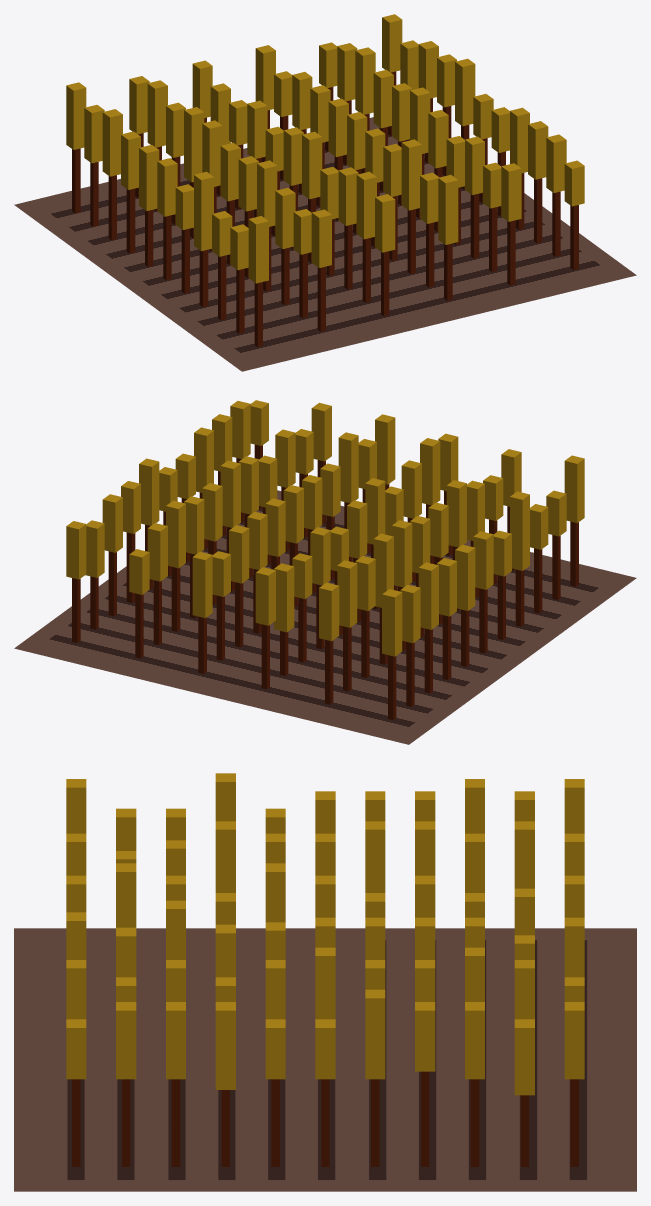
The model's file is WheatFieldLand100%.obj.
3 views of the same model, one above another, from view 1: azimuth 30°, elevation 25°; view 2: azimuth 150°, elevation 25°; view 3: azimuth 270°, elevation 25° (orthographic). The views are drawn at different scales.
Parts seen in each view (by area): view 1: Land_100%_Plane.005_WheatLeaf, Land_100%_Plane.005_WheatFieldFloor, Land_100%_Plane.005_WheatStem; view 2: Land_100%_Plane.005_WheatLeaf, Land_100%_Plane.005_WheatFieldFloor, Land_100%_Plane.005_WheatStem; view 3: Land_100%_Plane.005_WheatFieldFloor, Land_100%_Plane.005_WheatLeaf, Land_100%_Plane.005_WheatStem.
Part boxes in pixels (x1,y1,x2,y2): Land_100%_Plane.005_WheatLeaf: [66, 14, 584, 283]; Land_100%_Plane.005_WheatFieldFloor: [14, 117, 636, 371]; Land_100%_Plane.005_WheatStem: [72, 71, 578, 346]; Land_100%_Plane.005_WheatLeaf: [66, 400, 584, 656]; Land_100%_Plane.005_WheatFieldFloor: [14, 490, 636, 744]; Land_100%_Plane.005_WheatStem: [72, 444, 578, 720]; Land_100%_Plane.005_WheatFieldFloor: [14, 928, 636, 1191]; Land_100%_Plane.005_WheatLeaf: [66, 773, 584, 1095]; Land_100%_Plane.005_WheatStem: [72, 1071, 578, 1166].
Bounding box in the file's own units: 2 × 0.6263 × 2.
3 materials, 1 textured.
